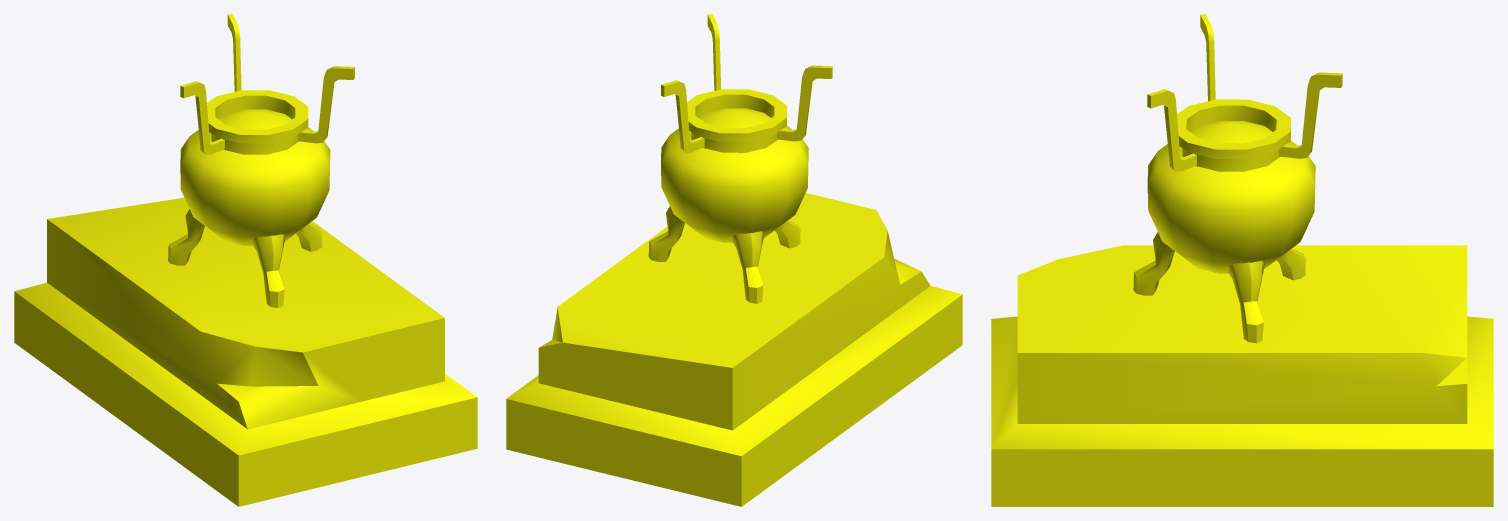
File: obj_braziar_00.glb
3 renders of one model, left to right at view 1: azimuth 30°, elevation 25°; view 2: azimuth 150°, elevation 25°; view 3: azimuth 270°, elevation 25°, orthographic. The views are drawn at different scales.
Parts seen in each view (by area): view 1: Object03, obj_braziar_00; view 2: Object03, obj_braziar_00; view 3: Object03, obj_braziar_00.
Part boxes in pixels (x1,y1,x2,y2): Object03: (14,197,477,506); obj_braziar_00: (168,14,354,307); Object03: (506,193,962,506); obj_braziar_00: (648,14,832,303); Object03: (991,245,1493,506); obj_braziar_00: (1133,14,1342,343).
Size of the model in its own units: 5.99 by 8.19 by 9.74.
Materials: 2 (2 with a texture image).
